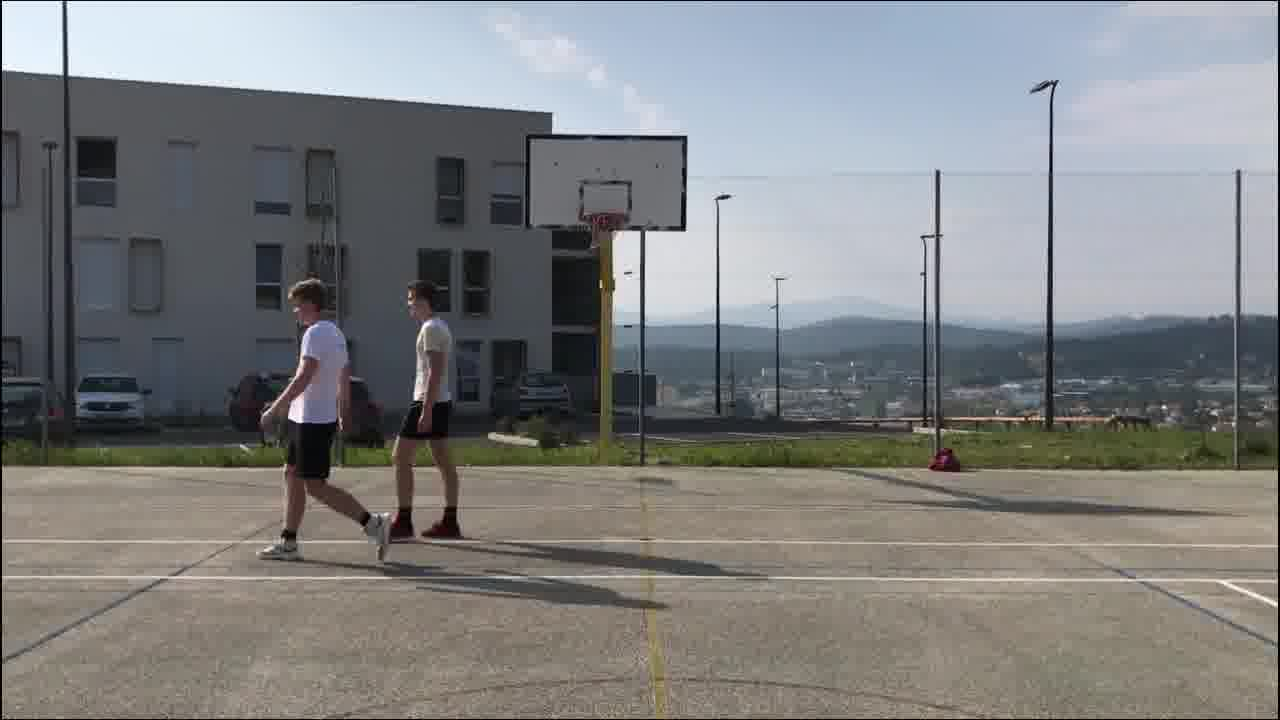jugador: (371, 272, 471, 550)
